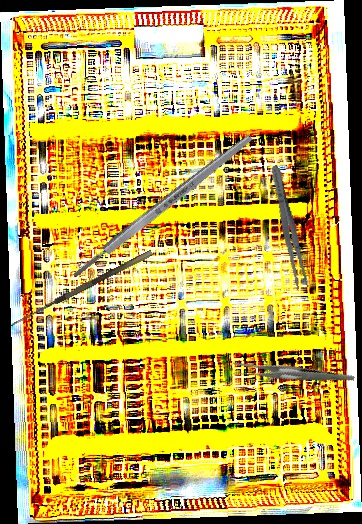Dressing Forceps: (228, 330, 356, 419), (267, 163, 311, 291)
Hook Surgical: (9, 249, 157, 335)
Scalpel Handle: (69, 132, 256, 281)
